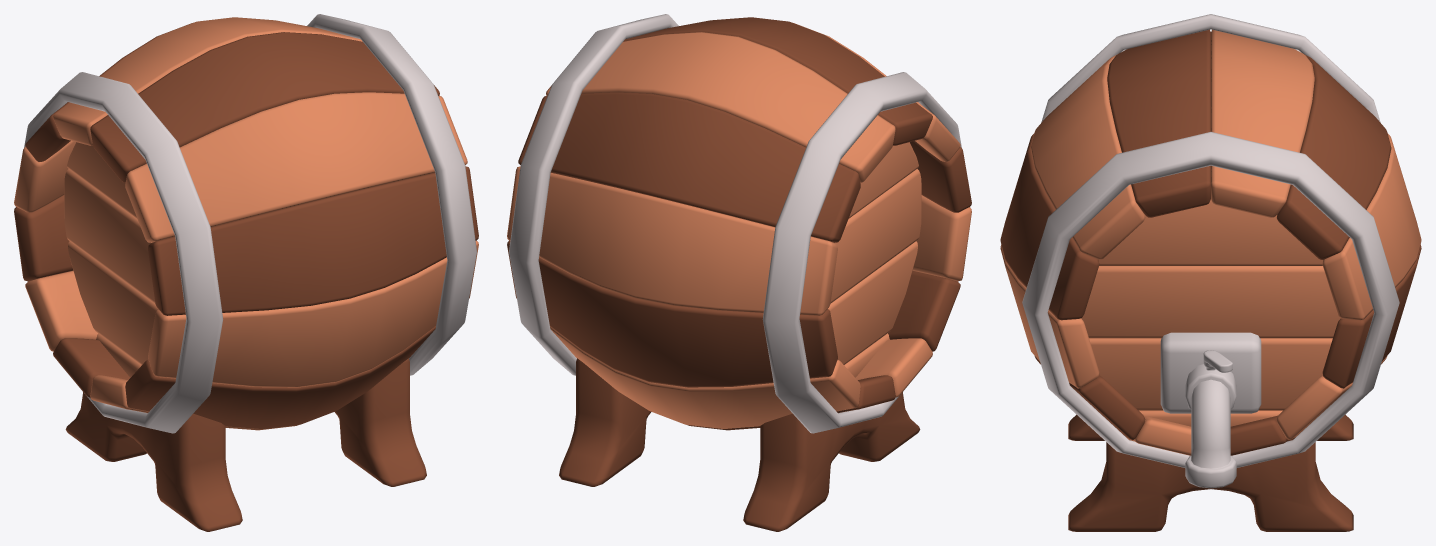
Rendered from beer barrel.fbx.
3 renders of one model, left to right at view 1: azimuth 30°, elevation 25°; view 2: azimuth 150°, elevation 25°; view 3: azimuth 270°, elevation 25°, orthographic.
Visible parts, largest first — view 1: Cube.030; view 2: Cube.030; view 3: Cube.030.
Boxes of the visible parts, x1,y1,x2,y2 form: Cube.030: (14, 14, 478, 531); Cube.030: (507, 14, 971, 531); Cube.030: (1000, 14, 1421, 531).
Size of the model in its own units: 236 by 253 by 227.
